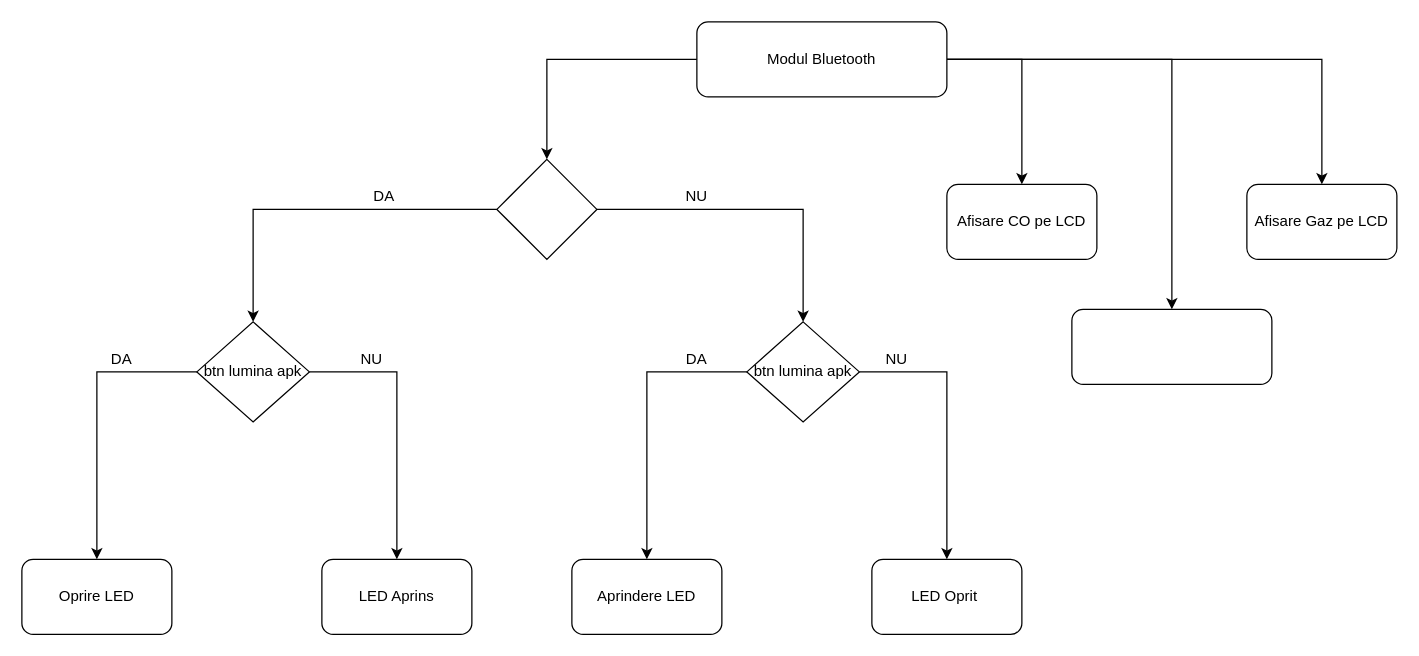
Image size: 1419x656. Some labels were removed from this diagram. The shapes that lost their labels are listed below. From the top down, each one's centre as x and y in pixels, then its label:
At pixel 546 208: "Lumina Aprinsa".
At pixel 1171 346: "Afisare Temperatura pe LCD".
